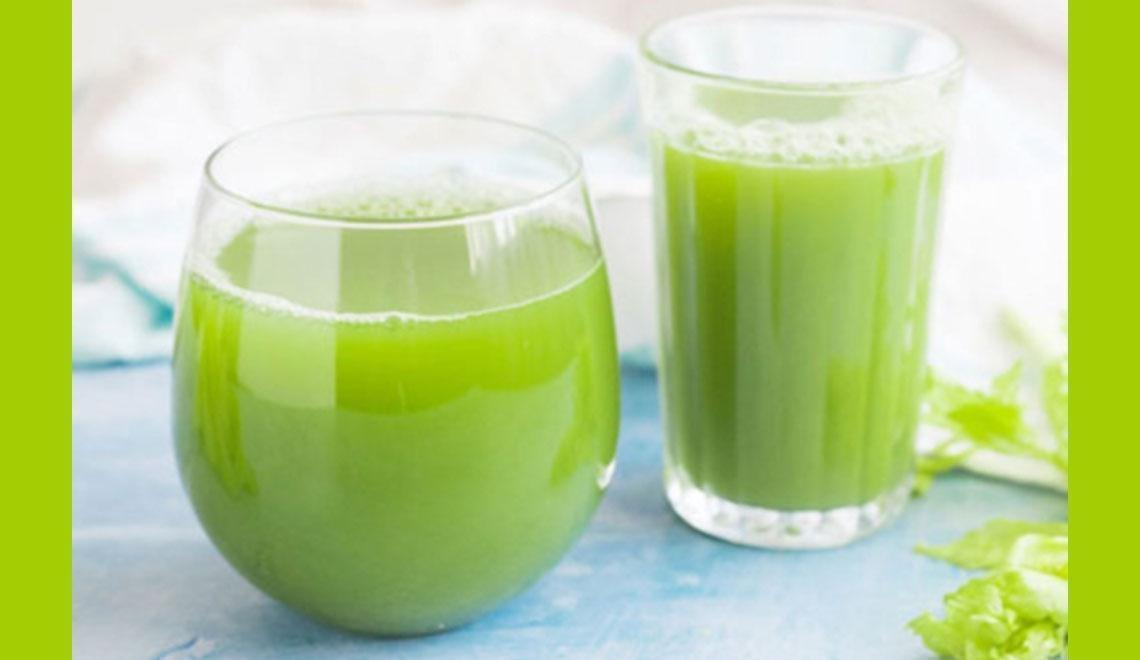glass-normal: (162, 101, 629, 648), (632, 3, 967, 548)
